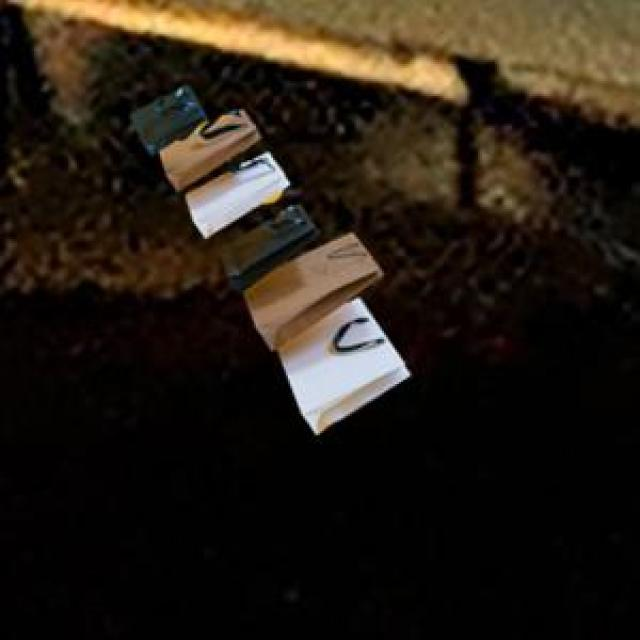paper: (126, 81, 405, 429)
